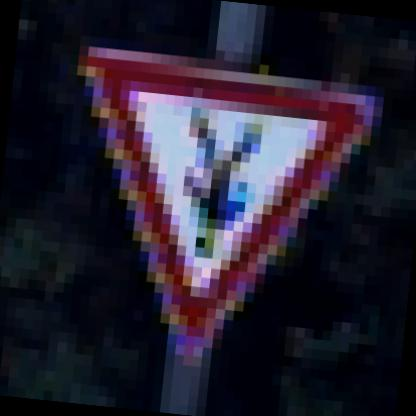crosswalk: (53, 28, 394, 376)
